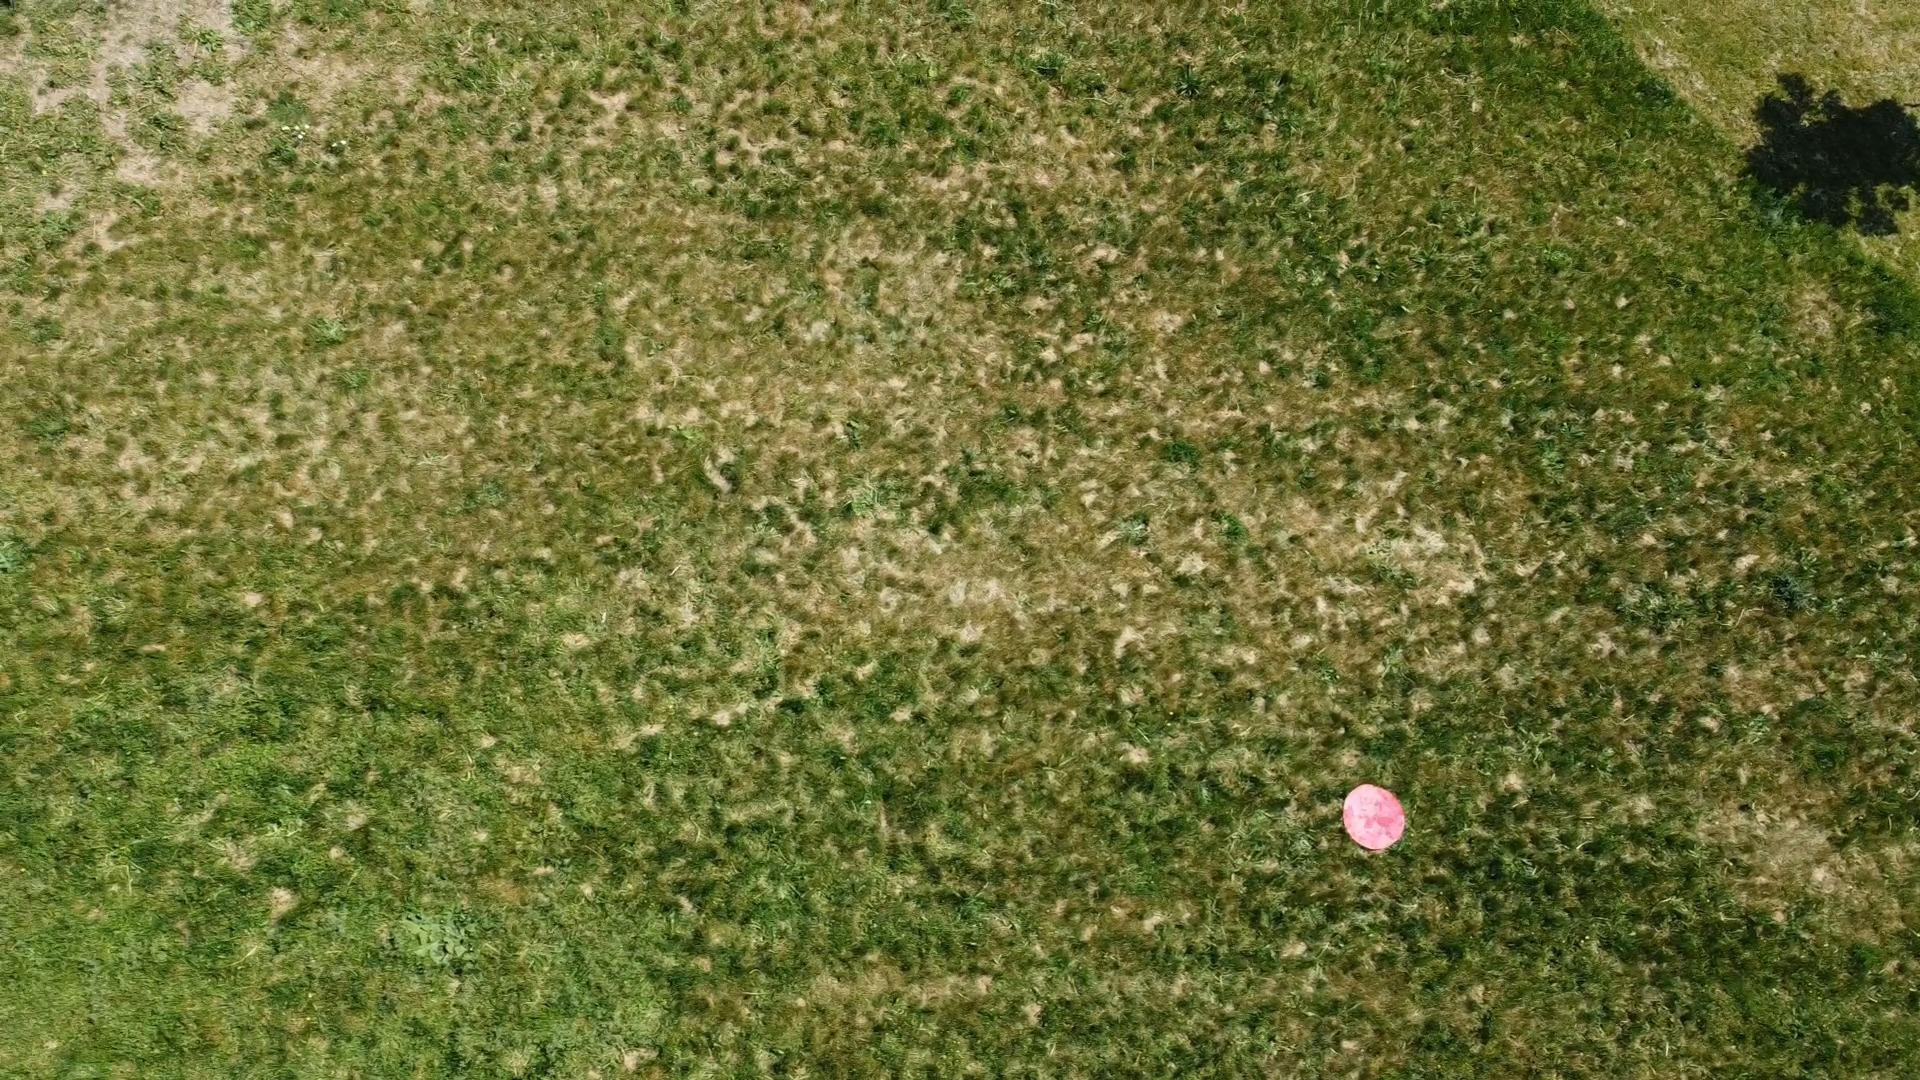Red: (1340, 778, 1412, 856)
